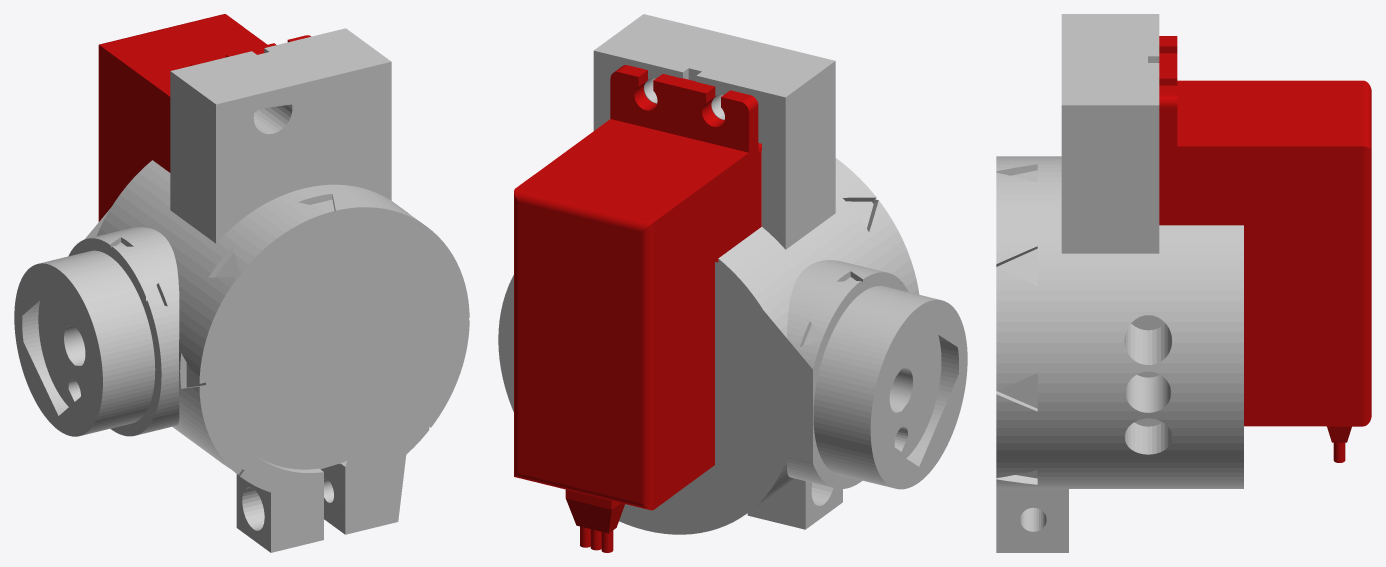
The model's file is hip_fl.mtl.obj.
The picture shows the model from 3 angles, left to right: view 1: azimuth 30°, elevation 25°; view 2: azimuth 150°, elevation 25°; view 3: azimuth 270°, elevation 25°; orthographic projection. The views are drawn at different scales.
Parts seen in each view (by area): view 1: Servo.005_Servo.002; view 2: Servo.005_Servo.002; view 3: Servo.005_Servo.002.
Part boxes in pixels (x1,y1,x2,y2): Servo.005_Servo.002: (14,14,469,552); Servo.005_Servo.002: (498,14,967,552); Servo.005_Servo.002: (996,14,1371,552).
Bounding box in the file's own units: 0.5506 × 0.6688 × 0.4946.
